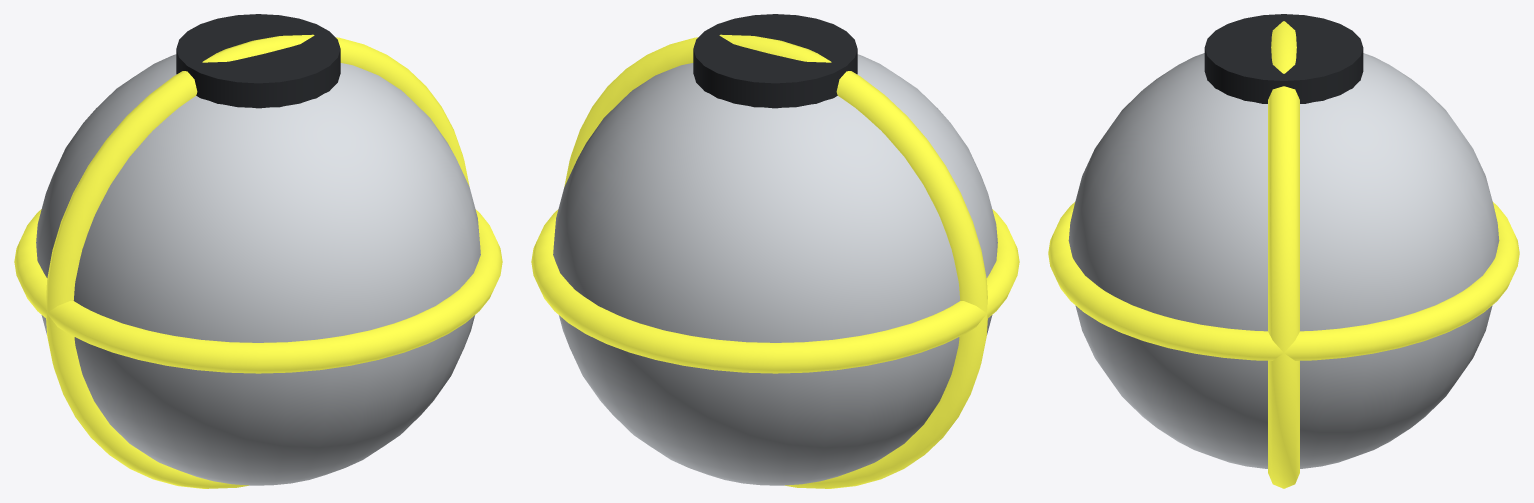
Rendered from core_2.glb.
3 views of the same model, side by side, from view 1: azimuth 30°, elevation 25°; view 2: azimuth 150°, elevation 25°; view 3: azimuth 270°, elevation 25° (orthographic). The views are drawn at different scales.
Bounding box in the file's own units: 0.654 × 0.654 × 0.654.
